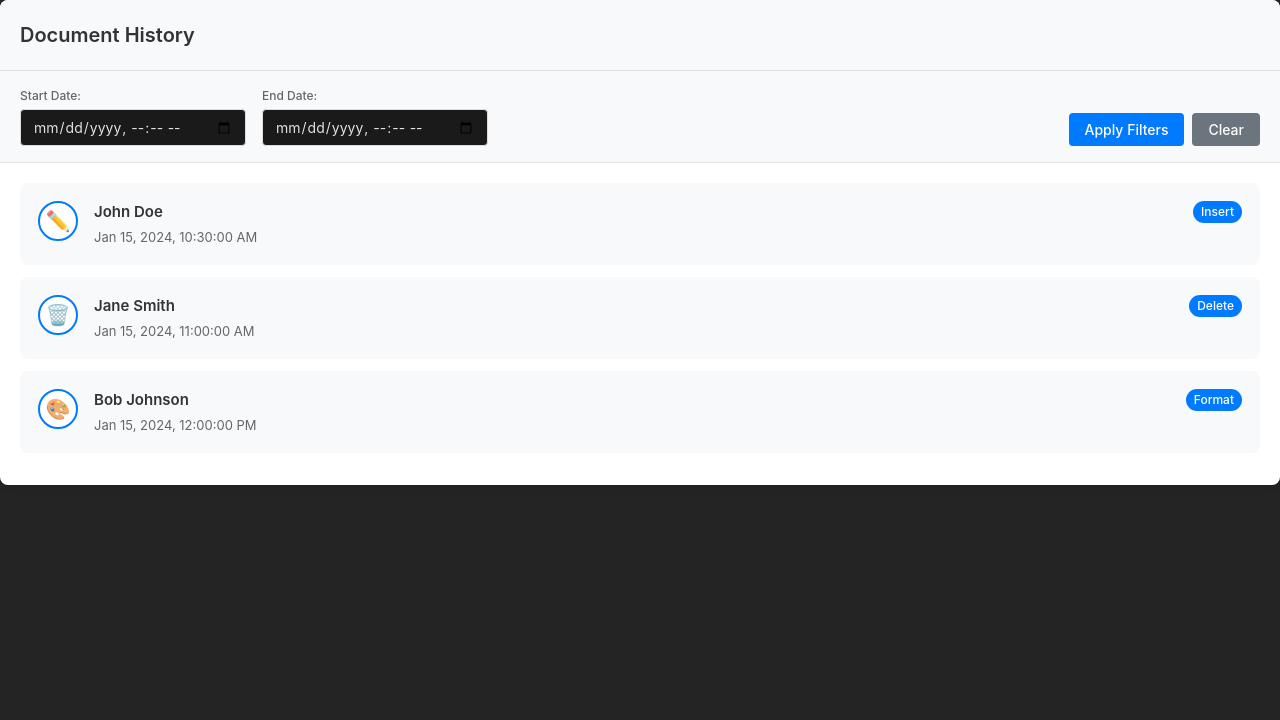
Scenario: DocumentHistory › Version Preview › opens version preview when timeline item is clicked
Expected: the text "John Doe" is shown, [94,201,163,224]
Click the button "John Doe".
click(58, 221)  # box [20,183,1260,265]
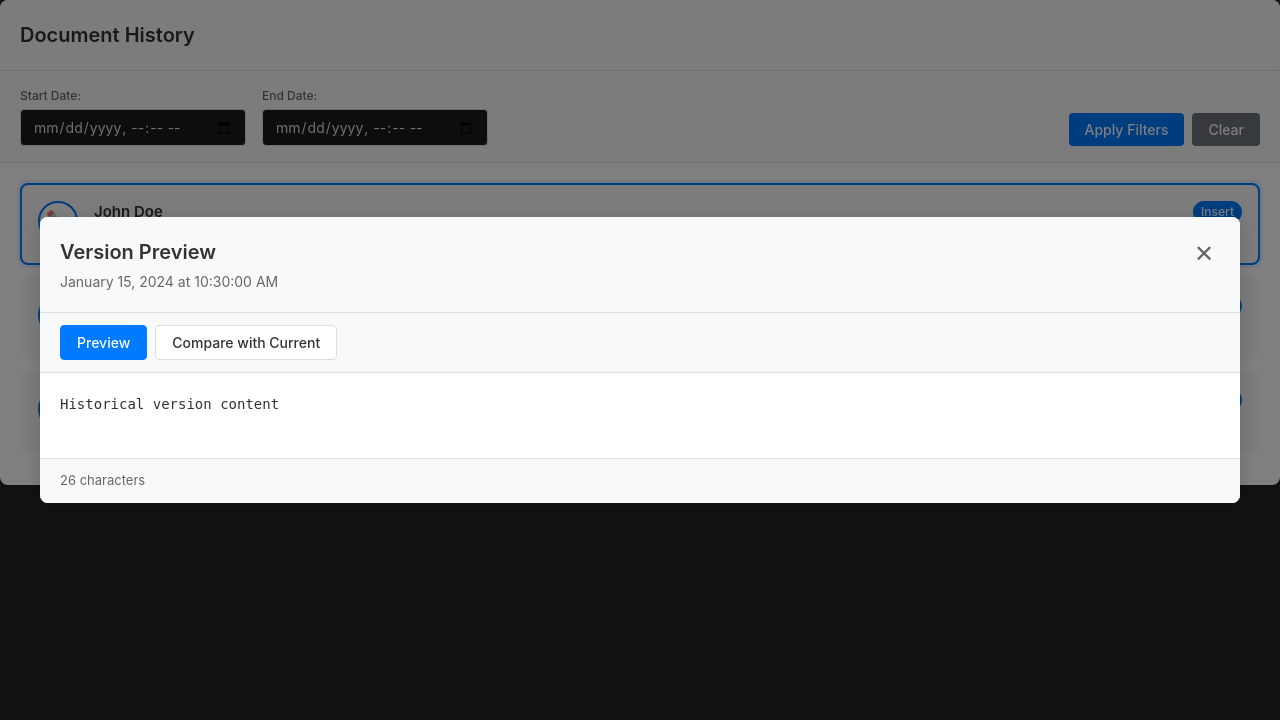
Now the heading "Version Preview" is shown, box [60,240,216,264]
